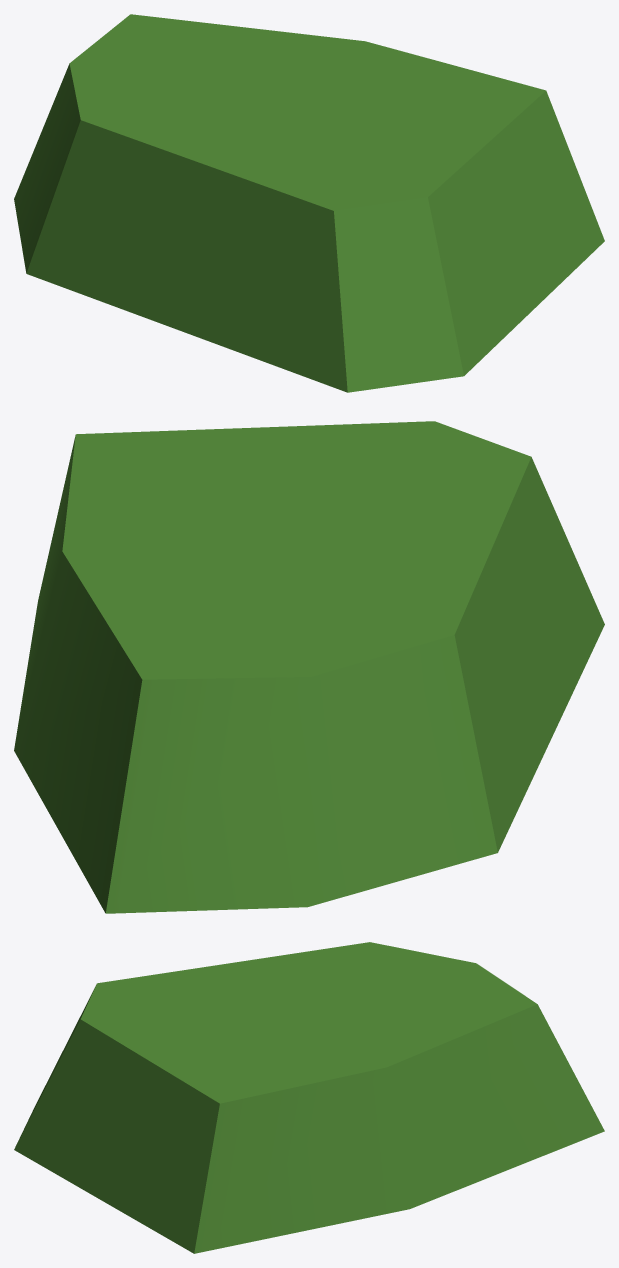
Rendered from grass_layer_crumb_mini_A.fbx.
The picture shows the model from 3 angles, top to bottom: view 1: azimuth 30°, elevation 25°; view 2: azimuth 150°, elevation 25°; view 3: azimuth 270°, elevation 25°; orthographic projection. The views are drawn at different scales.
Parts seen in each view (by area): view 1: grass_layer_crumb_mini_A; view 2: grass_layer_crumb_mini_A; view 3: grass_layer_crumb_mini_A.
Boxes of the visible parts, x1=… form: grass_layer_crumb_mini_A: x1=14, y1=14, x2=604, y2=392; grass_layer_crumb_mini_A: x1=14, y1=421, x2=604, y2=913; grass_layer_crumb_mini_A: x1=14, y1=942, x2=604, y2=1253.
Bounding box in the file's own units: 43.67 × 13.45 × 54.78.
